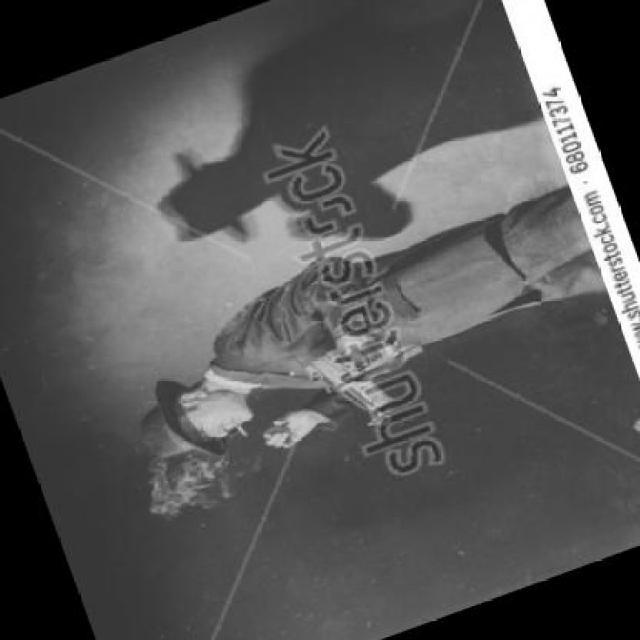cigarette: (229, 414, 251, 438)
